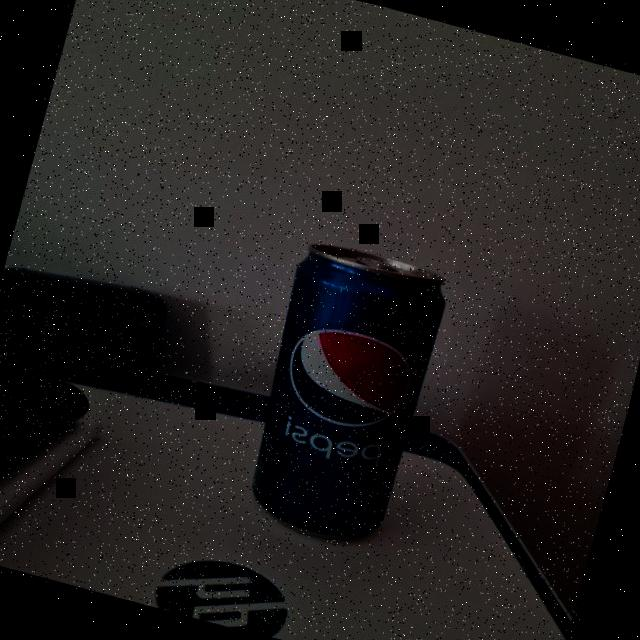can: (231, 231, 460, 560)
